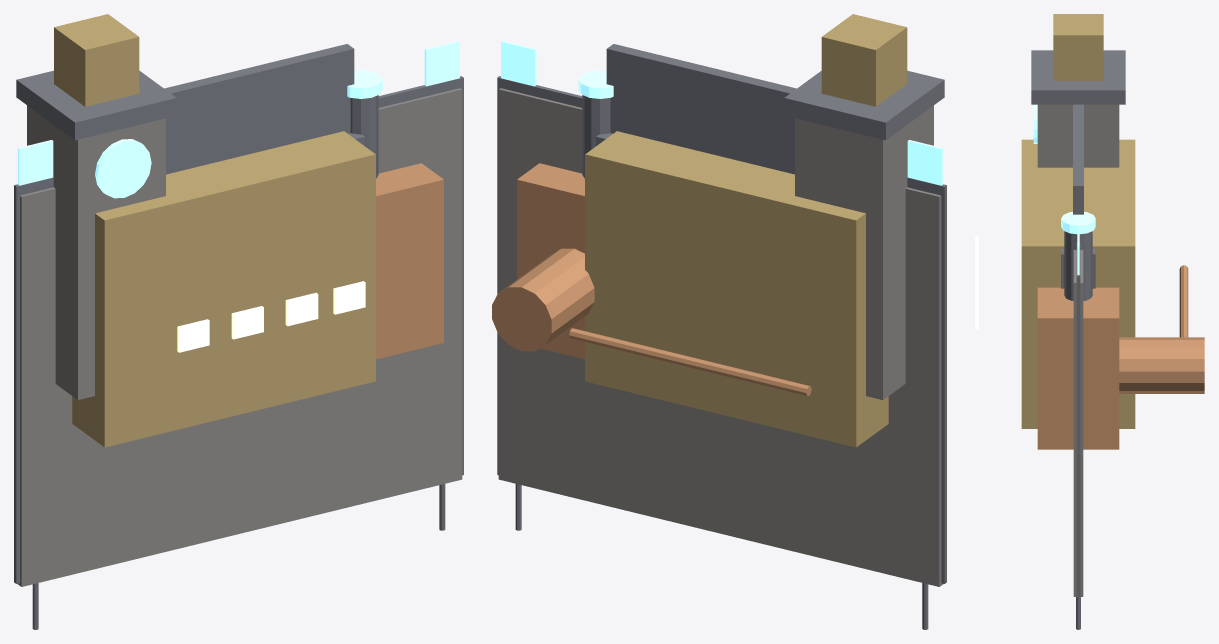
File: gearforge_civic_hall.glb
The picture shows the model from 3 angles, left to right: view 1: azimuth 30°, elevation 25°; view 2: azimuth 150°, elevation 25°; view 3: azimuth 270°, elevation 25°; orthographic projection. The views are drawn at different scales.
Visible parts, largest first — view 1: gearforge_civic_hall_pad, gearforge_civic_hall_hall, gearforge_civic_hall_roof, gearforge_civic_hall_tower, gearforge_civic_hall_annex, gearforge_civic_hall_tower_top, gearforge_civic_hall_tower_cap, gearforge_civic_hall_pad_trim, gearforge_civic_hall_dial, gearforge_civic_hall_banner_60, gearforge_civic_hall_banner_-60, gearforge_civic_hall_stack (+5 smaller); view 2: gearforge_civic_hall_pad, gearforge_civic_hall_hall, gearforge_civic_hall_tower, gearforge_civic_hall_roof, gearforge_civic_hall_tank, gearforge_civic_hall_annex, gearforge_civic_hall_tower_top, gearforge_civic_hall_tower_cap, gearforge_civic_hall_pad_trim, gearforge_civic_hall_pipe, gearforge_civic_hall_banner_-60, gearforge_civic_hall_banner_60 (+2 smaller); view 3: gearforge_civic_hall_hall, gearforge_civic_hall_annex, gearforge_civic_hall_tank, gearforge_civic_hall_tower, gearforge_civic_hall_tower_cap, gearforge_civic_hall_tower_top, gearforge_civic_hall_pad, gearforge_civic_hall_pad_trim, gearforge_civic_hall_stack, gearforge_civic_hall_roof, gearforge_civic_hall_pipe, gearforge_civic_hall_stack_lip.
Part boxes in pixels (x1=…): gearforge_civic_hall_pad: x1=18, y1=88, x2=462, y2=586; gearforge_civic_hall_hall: x1=72, y1=131, x2=375, y2=447; gearforge_civic_hall_roof: x1=164, y1=44, x2=354, y2=174; gearforge_civic_hall_tower: x1=27, y1=105, x2=165, y2=399; gearforge_civic_hall_annex: x1=376, y1=163, x2=443, y2=359; gearforge_civic_hall_tower_top: x1=54, y1=14, x2=139, y2=106; gearforge_civic_hall_tower_cap: x1=16, y1=70, x2=176, y2=140; gearforge_civic_hall_pad_trim: x1=14, y1=76, x2=463, y2=583; gearforge_civic_hall_dial: x1=95, y1=139, x2=151, y2=198; gearforge_civic_hall_banner_60: x1=424, y1=40, x2=459, y2=86; gearforge_civic_hall_banner_-60: x1=18, y1=140, x2=53, y2=185; gearforge_civic_hall_stack: x1=350, y1=95, x2=378, y2=178; gearforge_civic_hall_pad: x1=498, y1=88, x2=943, y2=586; gearforge_civic_hall_hall: x1=585, y1=131, x2=888, y2=447; gearforge_civic_hall_tower: x1=795, y1=105, x2=933, y2=399; gearforge_civic_hall_roof: x1=606, y1=44, x2=796, y2=174; gearforge_civic_hall_tank: x1=492, y1=248, x2=594, y2=351; gearforge_civic_hall_annex: x1=517, y1=163, x2=584, y2=359; gearforge_civic_hall_tower_top: x1=821, y1=14, x2=907, y2=106; gearforge_civic_hall_tower_cap: x1=784, y1=70, x2=944, y2=140; gearforge_civic_hall_pad_trim: x1=497, y1=76, x2=946, y2=583; gearforge_civic_hall_pipe: x1=569, y1=328, x2=811, y2=395; gearforge_civic_hall_banner_-60: x1=907, y1=140, x2=943, y2=185; gearforge_civic_hall_banner_60: x1=501, y1=40, x2=536, y2=86; gearforge_civic_hall_hall: x1=1021, y1=139, x2=1135, y2=428; gearforge_civic_hall_annex: x1=1037, y1=287, x2=1119, y2=449; gearforge_civic_hall_tank: x1=1119, y1=337, x2=1204, y2=393; gearforge_civic_hall_tower: x1=1037, y1=104, x2=1119, y2=167; gearforge_civic_hall_tower_cap: x1=1031, y1=50, x2=1125, y2=104; gearforge_civic_hall_tower_top: x1=1053, y1=14, x2=1103, y2=80; gearforge_civic_hall_pad: x1=1073, y1=249, x2=1083, y2=596; gearforge_civic_hall_pad_trim: x1=1076, y1=242, x2=1080, y2=596; gearforge_civic_hall_stack: x1=1064, y1=231, x2=1092, y2=300; gearforge_civic_hall_roof: x1=1073, y1=104, x2=1083, y2=214; gearforge_civic_hall_pipe: x1=1179, y1=265, x2=1188, y2=337; gearforge_civic_hall_stack_lip: x1=1061, y1=212, x2=1095, y2=234.
Size of the model in its own units: 13.2 by 16.4 by 7.27.
